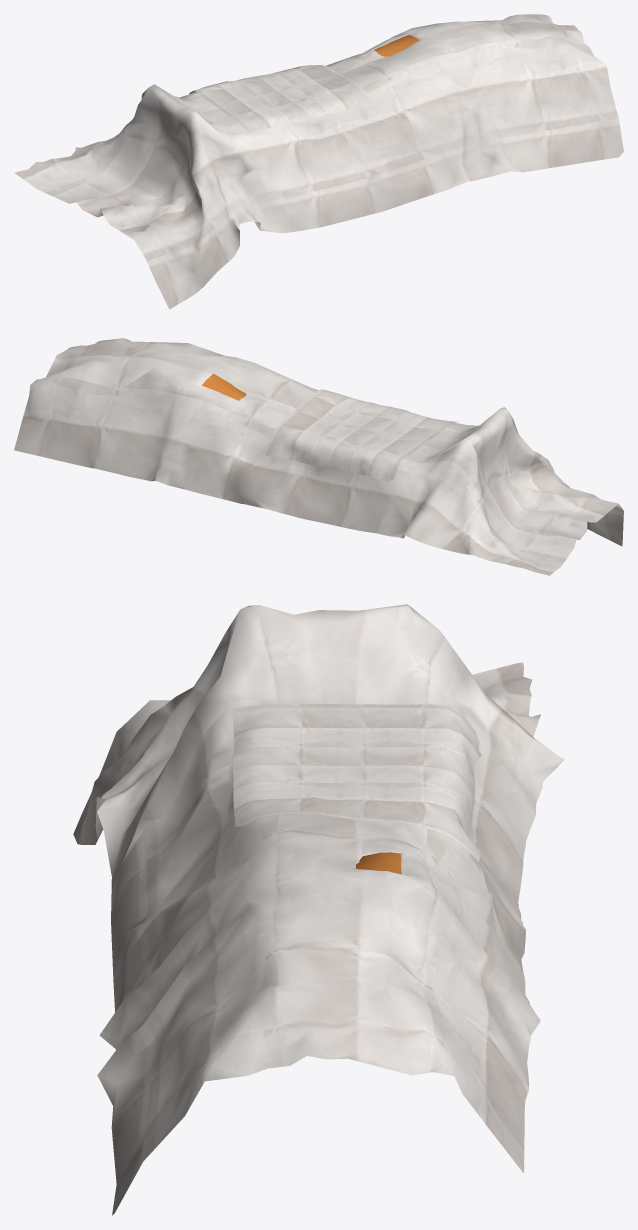
The model's file is ChampPatient_Peau_ChampSterileV2.FBX.
The picture shows the model from 3 angles, top to bottom: view 1: azimuth 30°, elevation 25°; view 2: azimuth 150°, elevation 25°; view 3: azimuth 270°, elevation 25°; orthographic projection. The views are drawn at different scales.
Parts seen in each view (by area): view 1: PapierSterilePatient, ChampsSterile, Peau; view 2: PapierSterilePatient, ChampsSterile, Peau; view 3: PapierSterilePatient, ChampsSterile.
Boxes of the visible parts, box(x1,y1,x2,y2) form: PapierSterilePatient: box(14, 14, 623, 309); ChampsSterile: box(189, 65, 368, 131); Peau: box(374, 35, 419, 56); PapierSterilePatient: box(14, 338, 623, 575); ChampsSterile: box(266, 389, 457, 481); Peau: box(202, 373, 245, 400); PapierSterilePatient: box(73, 604, 564, 1215); ChampsSterile: box(232, 703, 481, 861).
Bounding box in the file's own units: 205 × 56.66 × 84.61.
